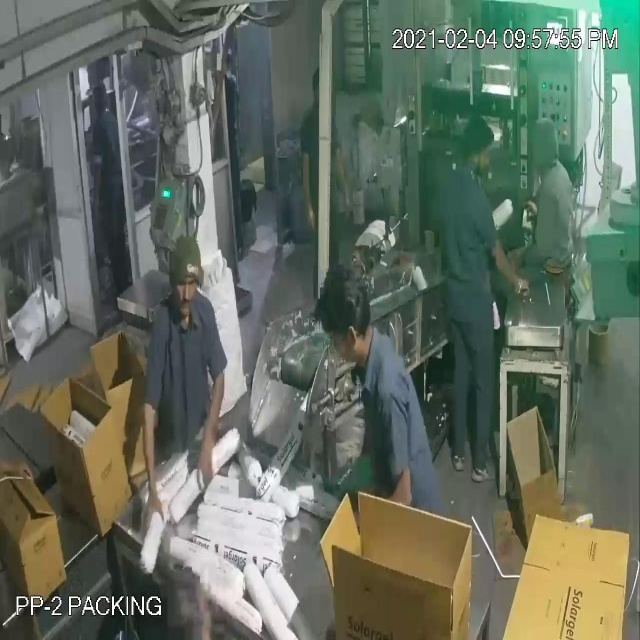Sin_guantes: (188, 356, 229, 501), (137, 371, 168, 543), (486, 220, 539, 308), (326, 120, 363, 224), (294, 144, 322, 234), (0, 452, 42, 491)
